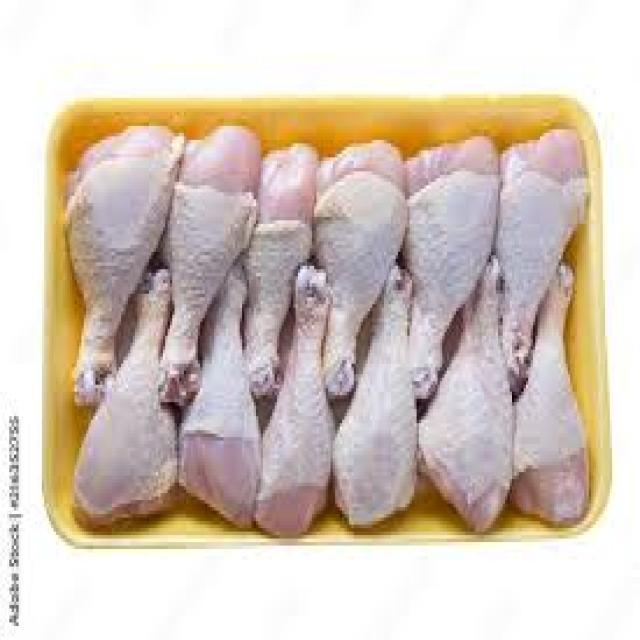leg: (62, 111, 166, 394), (399, 138, 496, 400), (303, 137, 402, 393), (427, 256, 515, 532), (168, 123, 252, 400), (80, 267, 176, 508), (338, 261, 414, 536), (500, 133, 584, 374), (185, 266, 258, 518), (266, 262, 334, 528), (234, 140, 310, 372), (526, 261, 592, 522)
